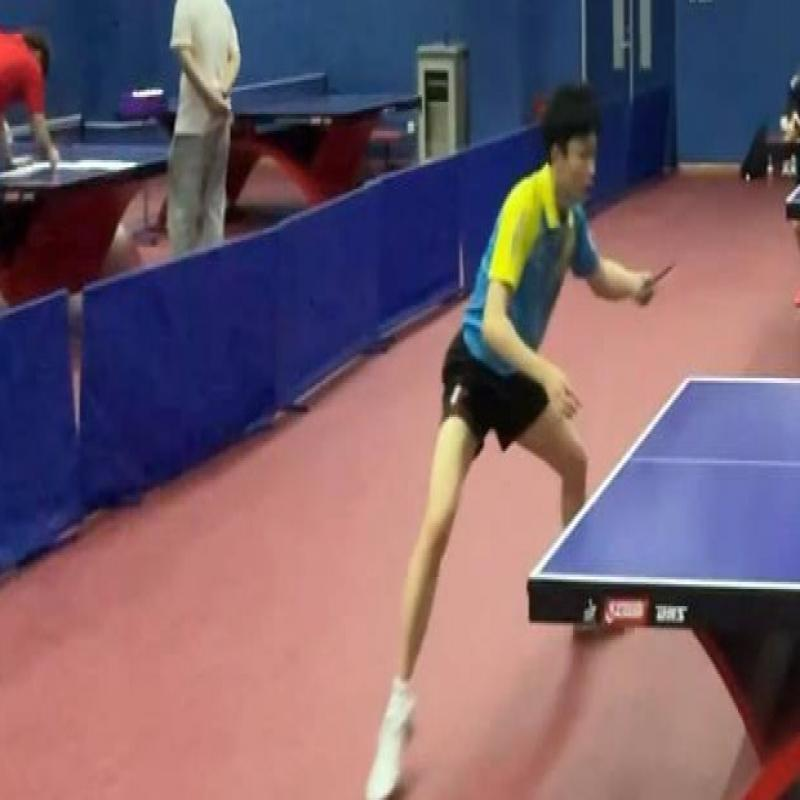bats: (643, 245, 680, 303)
